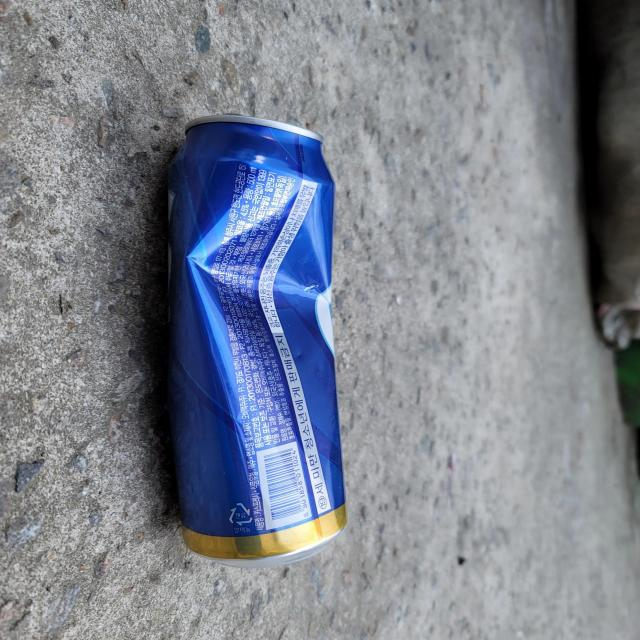can: (168, 115, 347, 568)
